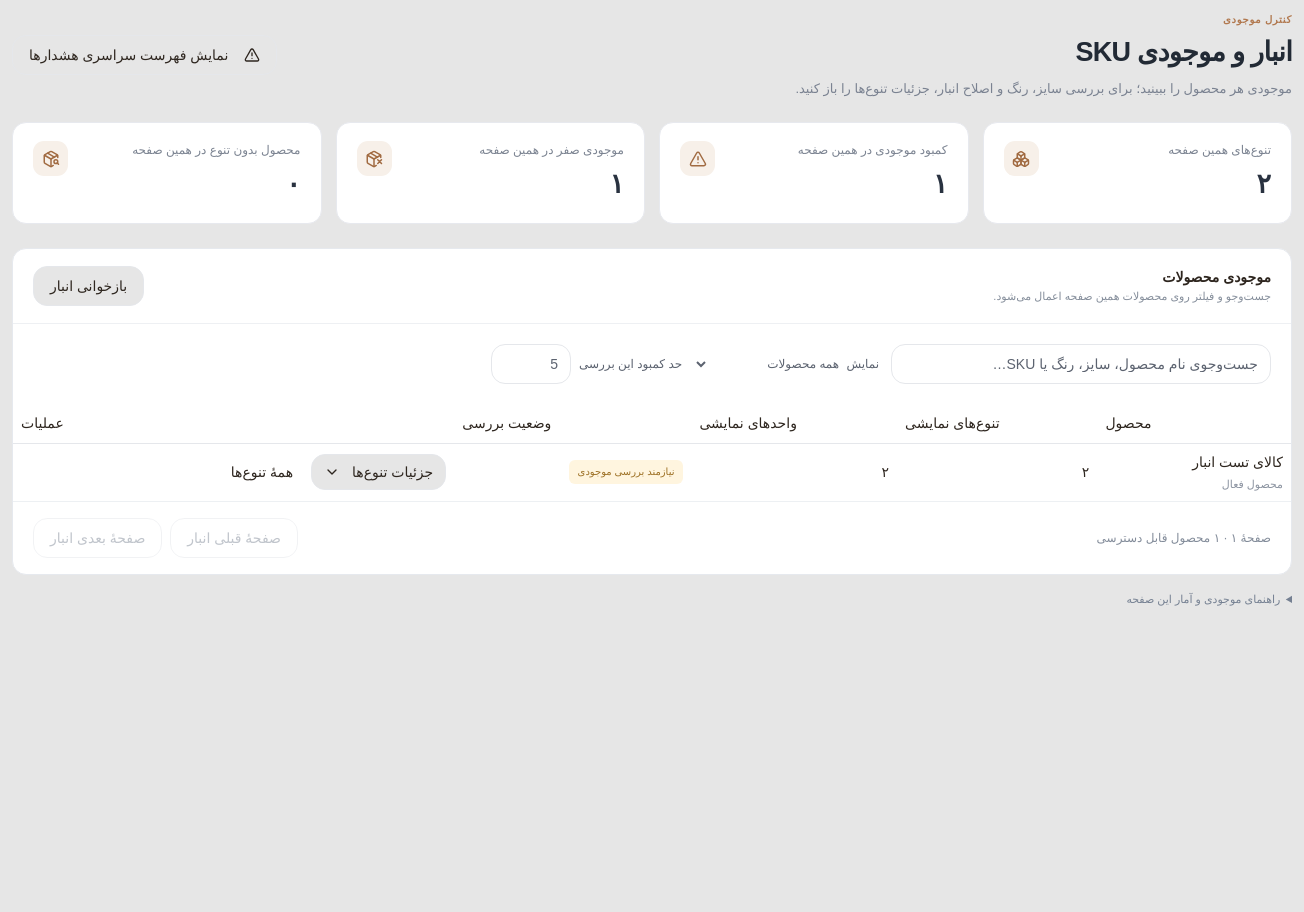
Test: inventory page › shows review flags and filtering without an inline stock editor
Select "موجودی صفر" in the dropdown named "فیلتر انبار": (769, 364) [694,356,843,372]
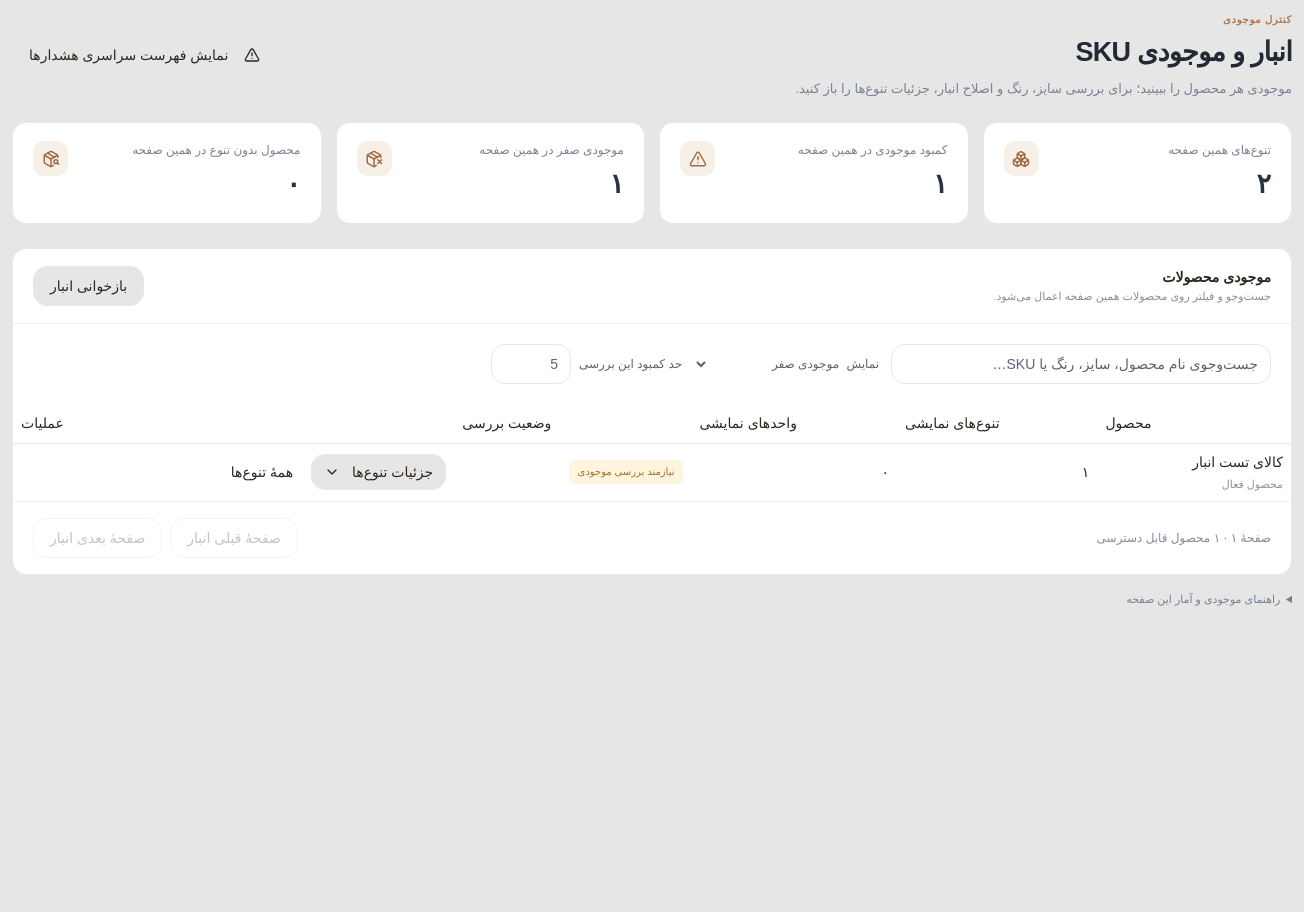
Click the button "جزئیات تنوع‌ها": click(379, 472) [311,454,446,490]
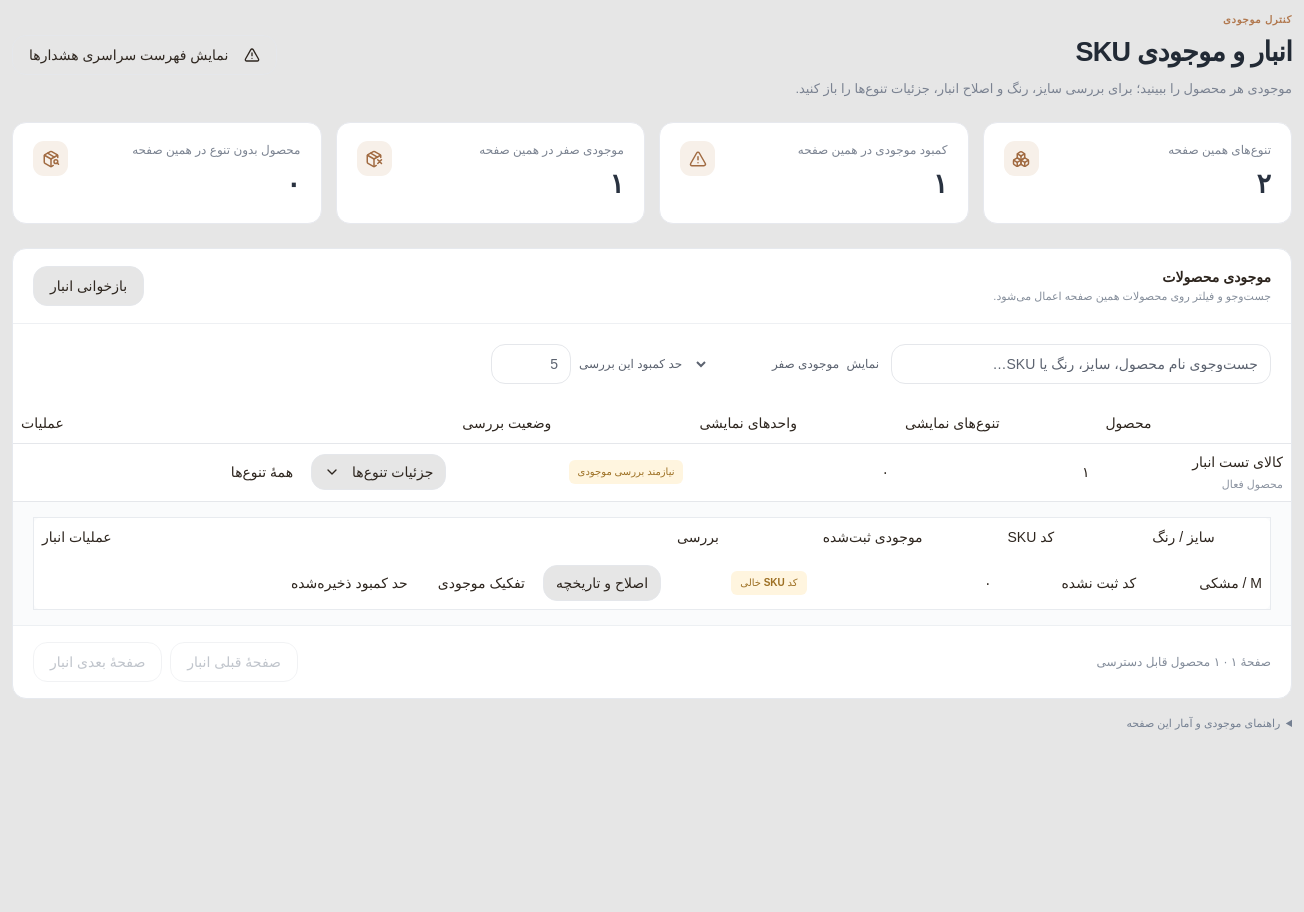
Now the text "کد ثبت نشده" is shown, box [1062,575,1136,591]
